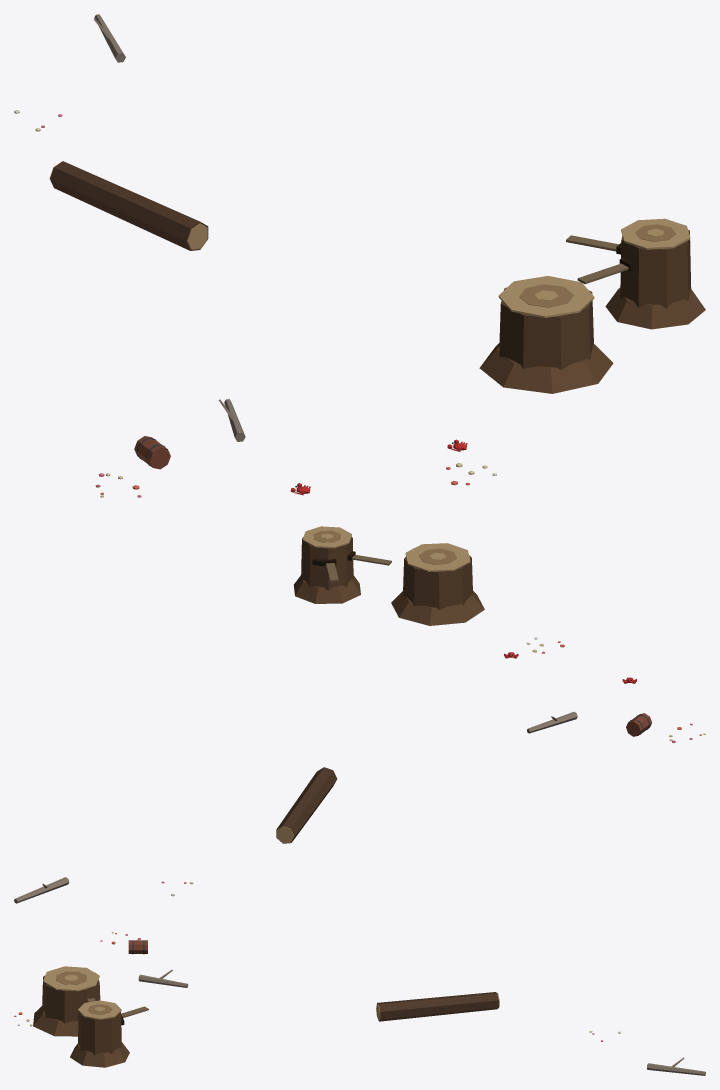
The model's file is chunk_-3_1.glb.
3 renders of one model, top to bottom at view 1: azimuth 30°, elevation 25°; view 2: azimuth 150°, elevation 25°; view 3: azimuth 270°, elevation 25°, orthographic. The views are drawn at different scales.
Visible parts, largest first — view 1: chunk_-3_1; view 2: chunk_-3_1; view 3: chunk_-3_1.
Boxes of the visible parts, x1,y1,x2,y2 form: chunk_-3_1: (14,14,705,497); chunk_-3_1: (14,526,705,903); chunk_-3_1: (14,932,705,1075).
Size of the model in its own units: 16.93 by 3.94 by 28.45.
